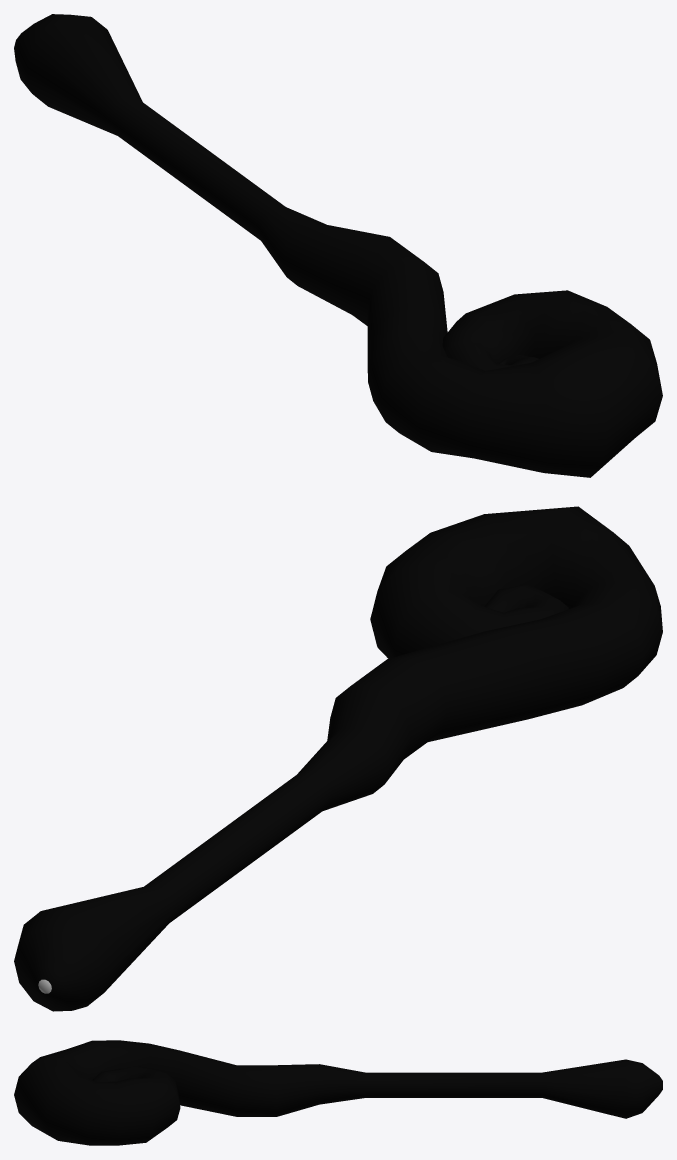
The model's file is Cube-Lv2-B-Weapon.fbx.
3 renders of one model, top to bottom at view 1: azimuth 30°, elevation 25°; view 2: azimuth 150°, elevation 25°; view 3: azimuth 270°, elevation 25°, orthographic. The views are drawn at different scales.
Visible parts, largest first — view 1: Cube-Lv2-B-Weapon; view 2: Cube-Lv2-B-Weapon; view 3: Cube-Lv2-B-Weapon.
Part boxes in pixels (box(x1,y1,x2,y2)): Cube-Lv2-B-Weapon: box(14, 14, 662, 477); Cube-Lv2-B-Weapon: box(14, 506, 662, 1011); Cube-Lv2-B-Weapon: box(14, 1040, 662, 1145).
Size of the model in its own units: 0.1852 by 0.0872 by 0.7067.
